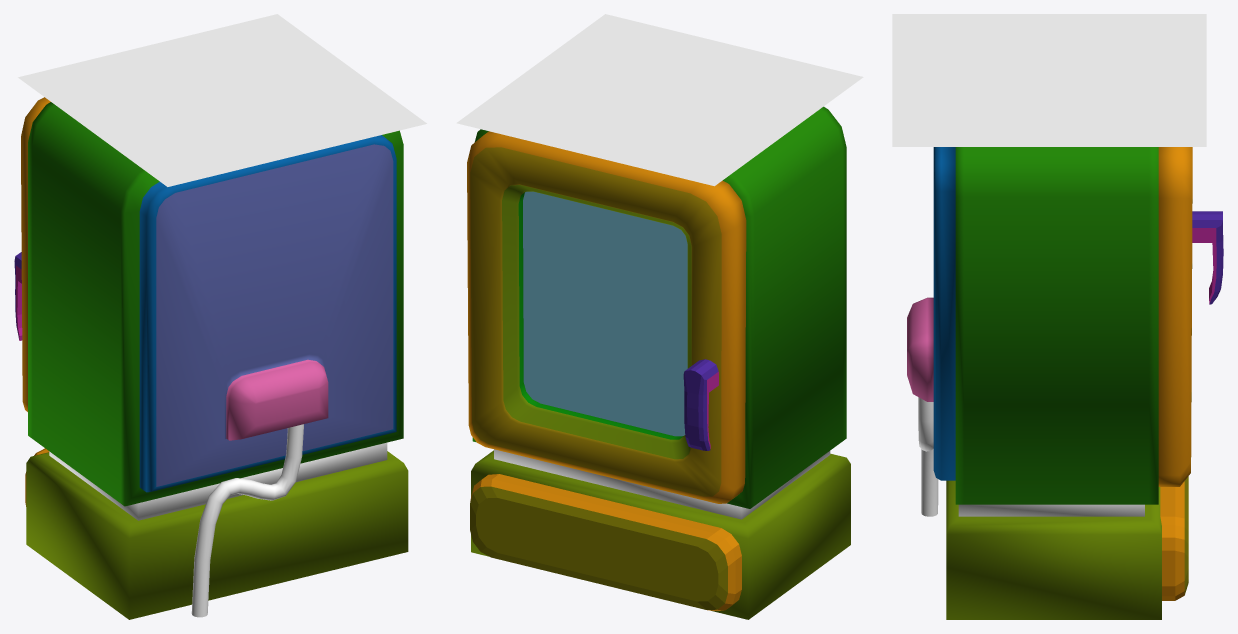
The model's file is Provider - Milk.fbx.
3 renders of one model, left to right at view 1: azimuth 30°, elevation 25°; view 2: azimuth 150°, elevation 25°; view 3: azimuth 270°, elevation 25°, orthographic. The views are drawn at different scales.
Visible parts, largest first — view 1: Body, Quad, Wire, Divider, Door; view 2: Door, Body, Quad, Divider; view 3: Body, Quad, Door, Divider, Wire.
Part boxes in pixels (x1,y1,x2,y2): Body: (25, 102, 408, 619); Quad: (18, 14, 426, 186); Wire: (191, 424, 303, 617); Divider: (49, 442, 387, 520); Door: (14, 97, 50, 411); Door: (467, 131, 746, 503); Body: (470, 106, 850, 619); Quad: (456, 14, 863, 186); Divider: (494, 449, 830, 519); Body: (907, 147, 1188, 619); Quad: (892, 14, 1206, 146); Door: (1158, 147, 1223, 486); Divider: (958, 504, 1144, 516); Wire: (918, 397, 938, 516).
Size of what is drawn, in the model's own units: 79.47 by 123 by 77.96.
